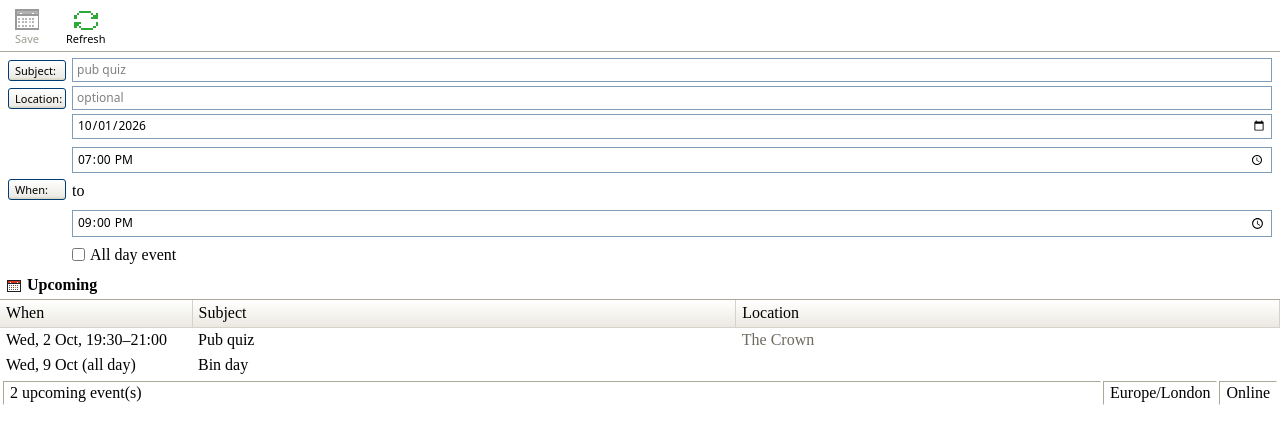
Test: CalendarClient › shows an error box when the save fails
Type "Film night" into the field labelled "Subject:" at (672, 70), box [72,58,1272,82]
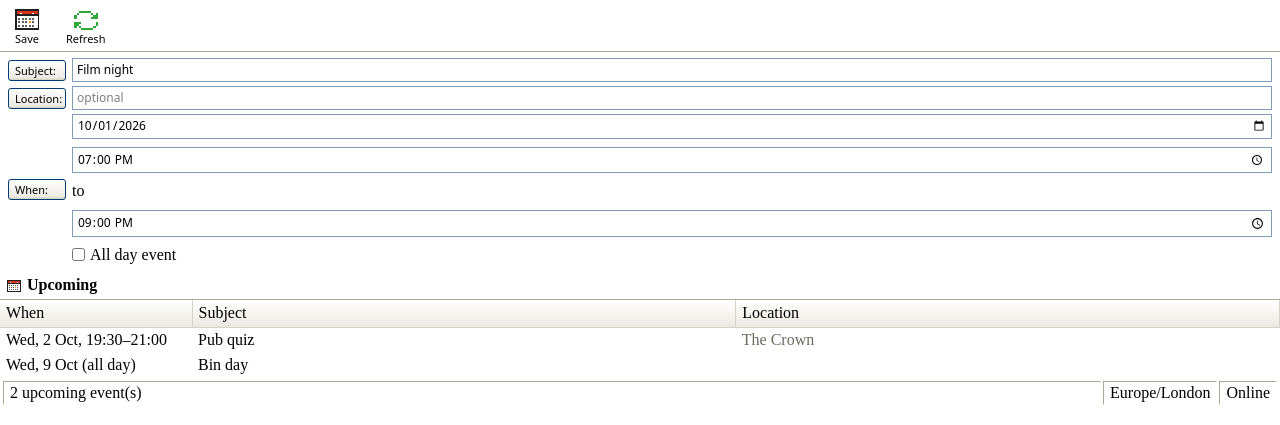
Click the button "Save" at (27, 26), box [4,4,50,48]
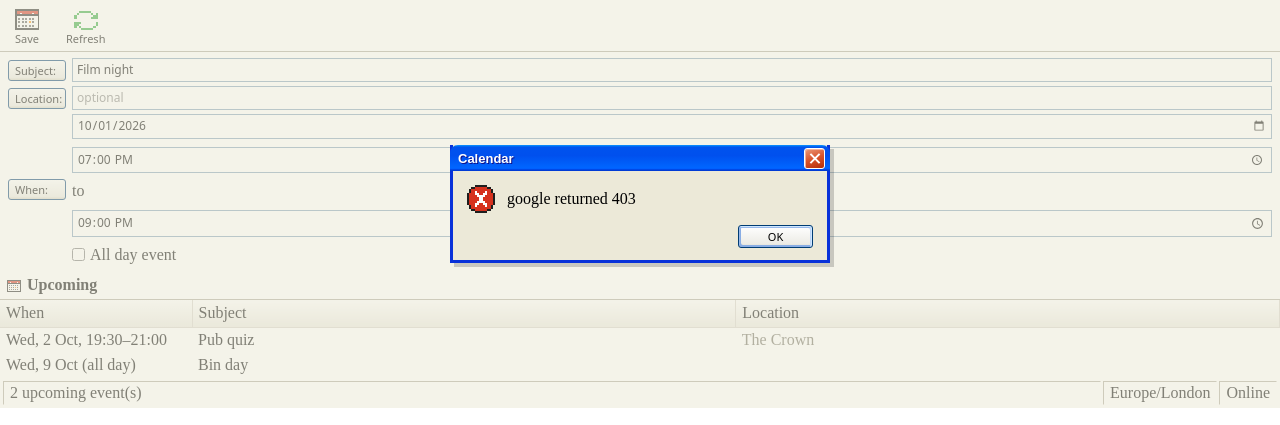
Expected: the message shows "google returned 403", [507,190,636,207]
Click the button "OK" at (776, 237), box [738,225,813,248]
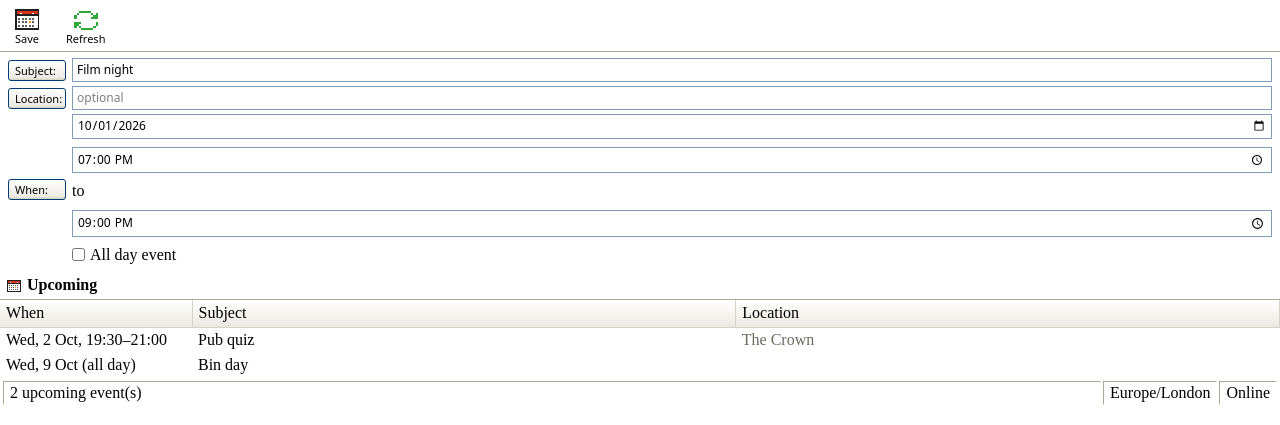
Expected: the message "Calendar google returned 403 OK" is gone
